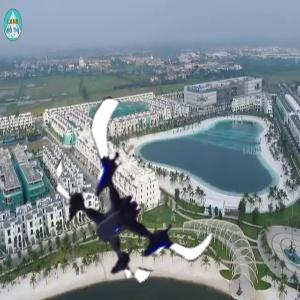drone: (42, 119, 223, 300)
